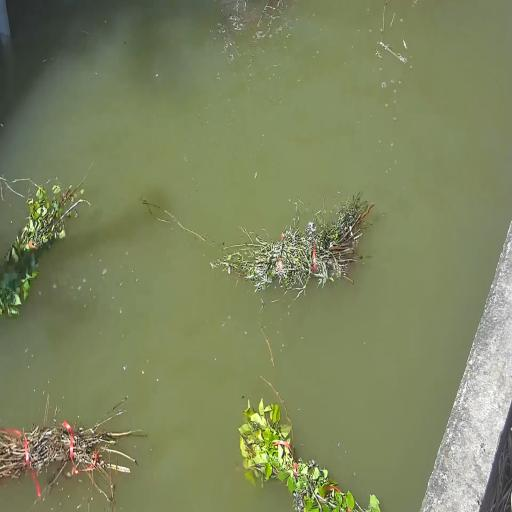twig: (238, 399, 380, 512), (212, 196, 372, 296), (0, 410, 145, 503), (0, 184, 89, 316)
